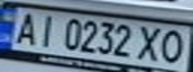0: (57, 16, 84, 52)
2: (112, 20, 139, 60), (78, 17, 100, 55)
3: (97, 19, 118, 56)
A: (9, 10, 42, 46)
I: (30, 12, 60, 47)
O: (154, 27, 190, 64)
X: (133, 24, 166, 62)
